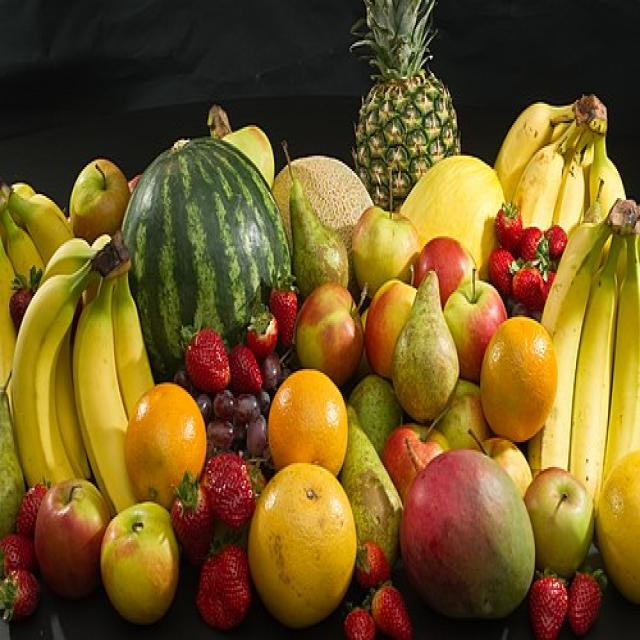apple: (93, 481, 186, 634), (28, 469, 112, 608), (291, 271, 370, 388), (524, 451, 600, 571), (65, 145, 133, 252), (443, 268, 509, 375), (352, 196, 417, 288)
banana: (15, 231, 141, 500), (547, 199, 639, 475), (488, 72, 628, 228)
orange: (247, 456, 363, 625), (121, 370, 210, 505), (268, 357, 350, 482), (478, 313, 558, 439)
pear: (273, 140, 352, 297), (394, 265, 459, 423)
pine apple: (348, 6, 462, 160)
strawberry: (193, 538, 257, 636), (199, 446, 262, 539), (182, 318, 234, 400), (166, 482, 216, 561), (348, 587, 419, 640), (522, 564, 570, 640), (569, 563, 614, 633), (491, 191, 524, 275), (360, 533, 396, 596)
watermelon: (114, 136, 300, 384)
